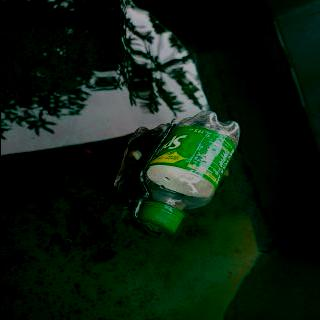bottle: (133, 110, 241, 236)
